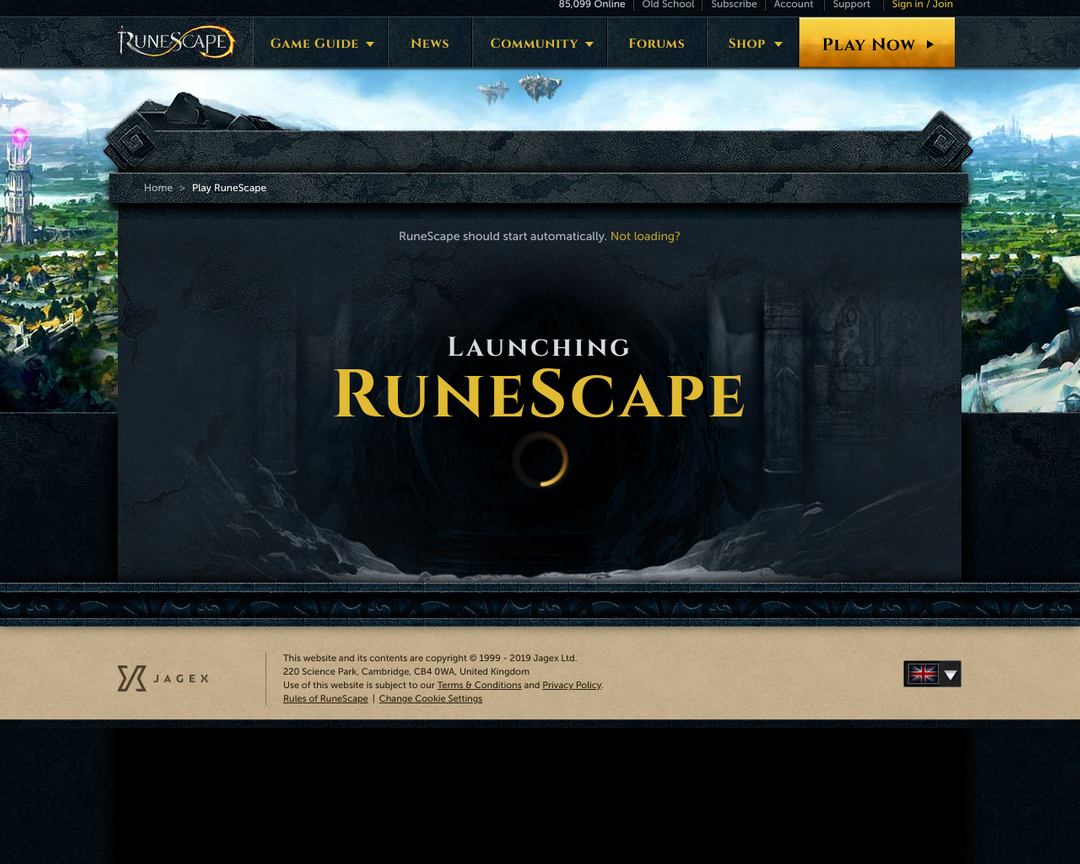Runescape: (115, 22, 240, 62)
